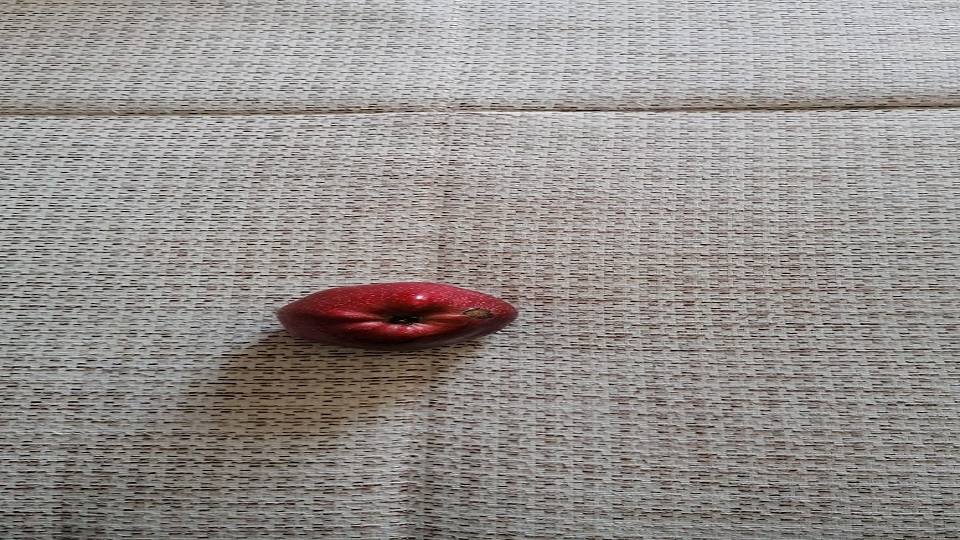elma: (275, 280, 521, 353)
